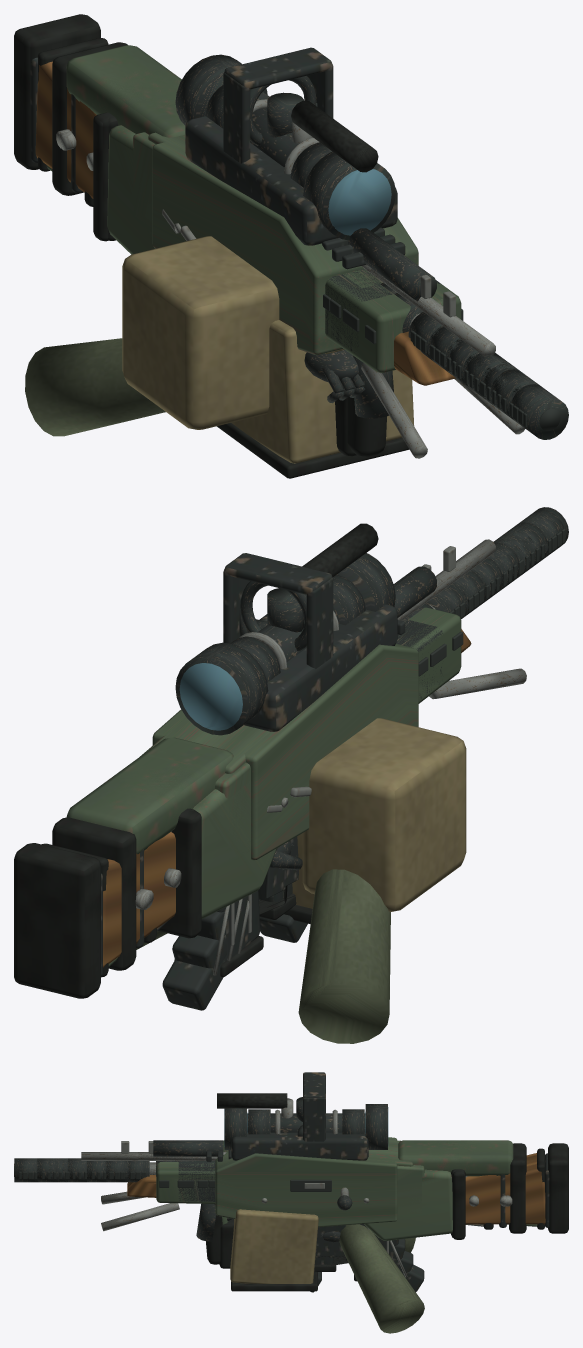
The picture shows the model from 3 angles, top to bottom: view 1: azimuth 30°, elevation 25°; view 2: azimuth 150°, elevation 25°; view 3: azimuth 270°, elevation 25°; orthographic projection. The views are drawn at different scales.
Visible parts, largest first — view 1: weapon_m249_mesh, weapon_awm_mesh, weapon_kar98k_mesh, first_person_arms_mesh, mag_m249_mesh, weapon_aug_mesh, weapon_mk14_mesh, weapon_summit-300_mesh, weapon_ump45_mesh, weapon_s12k_mesh, weapon_mini14_mesh, weapon_m416_mesh (+3 smaller); view 2: weapon_m249_mesh, weapon_kar98k_mesh, weapon_summit-300_mesh, first_person_arms_mesh, weapon_awm_mesh, weapon_aug_mesh, weapon_mk14_mesh, weapon_ump45_mesh, mag_groza_mesh, weapon_mini14_mesh, weapon_akm_mesh, weapon_m416_mesh (+6 smaller); view 3: weapon_m249_mesh, weapon_kar98k_mesh, mag_m249_mesh, weapon_aug_mesh, weapon_awm_mesh, first_person_arms_mesh, weapon_mk14_mesh, weapon_summit-300_mesh, weapon_s12k_mesh, weapon_mini14_mesh, weapon_akm_mesh, weapon_ump45_mesh (+5 smaller).
Part boxes in pixels (x1,y1,x2,y2): weapon_m249_mesh: (38, 38, 529, 453); weapon_awm_mesh: (18, 16, 552, 458); weapon_kar98k_mesh: (30, 54, 537, 420); first_person_arms_mesh: (25, 338, 365, 436); mag_m249_mesh: (217, 320, 414, 478); weapon_aug_mesh: (93, 112, 438, 359); weapon_mk14_mesh: (52, 42, 514, 453); weapon_summit-300_mesh: (14, 14, 568, 458); weapon_ump45_mesh: (223, 47, 422, 332); weapon_s12k_mesh: (84, 191, 458, 371); weapon_mini14_mesh: (67, 85, 504, 399); weapon_m416_mesh: (86, 76, 460, 456); weapon_m249_mesh: (41, 523, 536, 977); weapon_kar98k_mesh: (101, 522, 547, 976); weapon_summit-300_mesh: (14, 507, 568, 998); first_person_arms_mesh: (136, 841, 390, 1043); weapon_awm_mesh: (20, 509, 564, 994); weapon_aug_mesh: (140, 583, 467, 938); weapon_mk14_mesh: (52, 539, 525, 970); weapon_ump45_mesh: (223, 553, 433, 668); mag_groza_mesh: (162, 899, 249, 1010); weapon_mini14_mesh: (136, 542, 519, 940); weapon_akm_mesh: (136, 557, 502, 948); weapon_m416_mesh: (154, 571, 485, 940); weapon_m249_mesh: (48, 1093, 544, 1229); weapon_kar98k_mesh: (37, 1097, 549, 1227); mag_m249_mesh: (230, 1209, 318, 1291); weapon_aug_mesh: (125, 1157, 465, 1240); weapon_awm_mesh: (18, 1125, 560, 1257); first_person_arms_mesh: (227, 1217, 424, 1333); weapon_mk14_mesh: (62, 1099, 526, 1233); weapon_summit-300_mesh: (14, 1111, 568, 1233); weapon_s12k_mesh: (104, 1140, 493, 1229); weapon_mini14_mesh: (68, 1109, 510, 1224); weapon_akm_mesh: (87, 1141, 506, 1227); weapon_ump45_mesh: (156, 1072, 325, 1176).
Size of the model in its own units: 0.6992 by 0.7414 by 1.74.
Materials: 2 (1 with a texture image).
